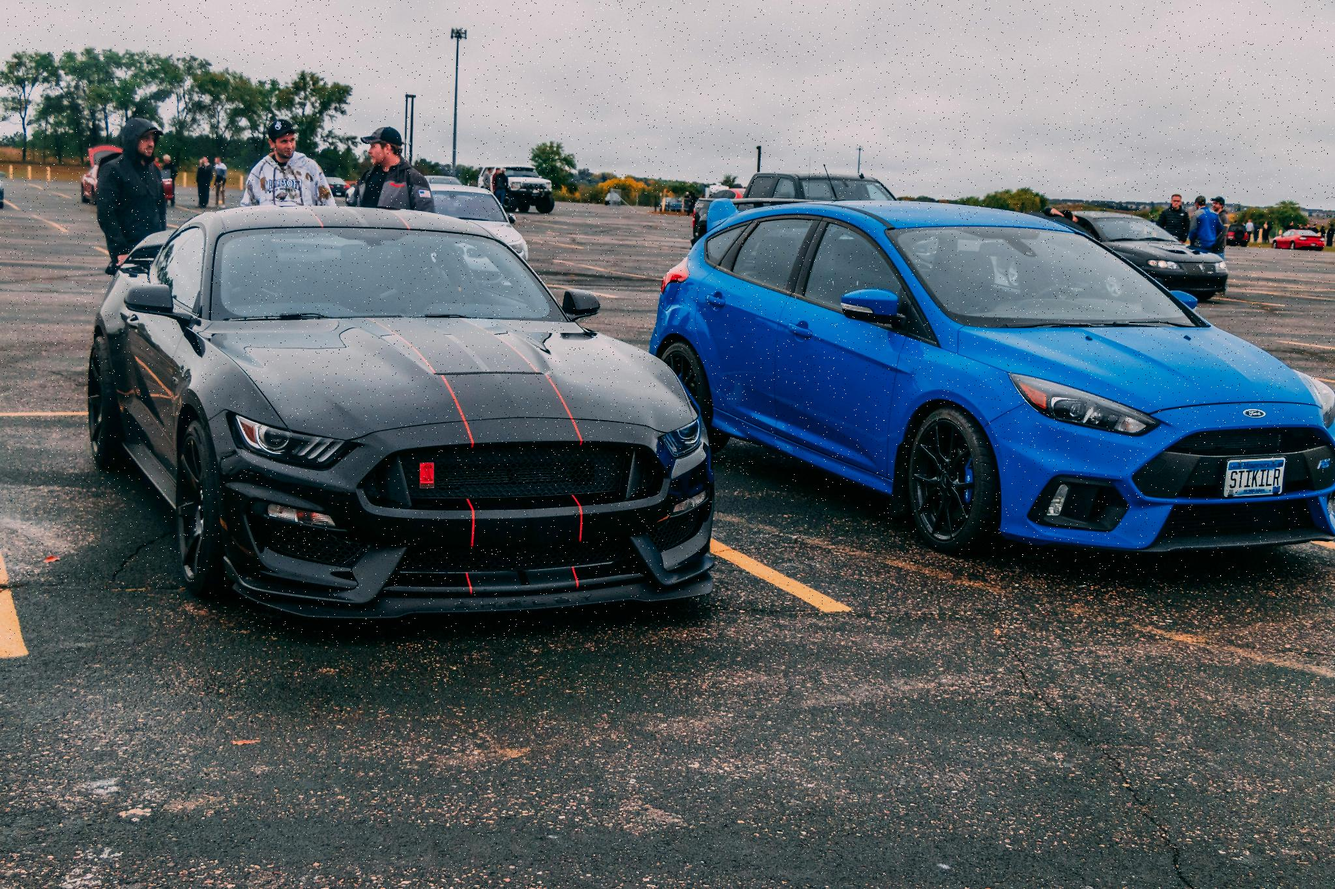car: (77, 203, 715, 618), (642, 200, 1326, 560), (1065, 213, 1235, 305), (423, 184, 530, 264), (496, 174, 556, 215), (1277, 233, 1327, 251)
pedestrian: (98, 121, 177, 268), (351, 129, 440, 213), (246, 128, 334, 209), (1187, 200, 1224, 257), (1157, 196, 1191, 243), (199, 155, 226, 209)
